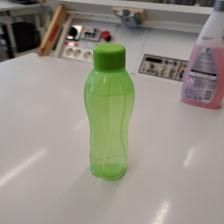bottle: (81, 42, 139, 181)
